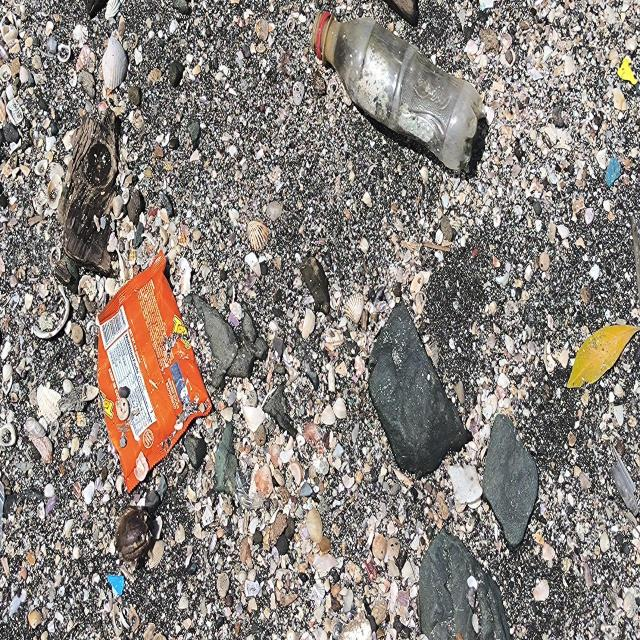plastic_waste: (97, 250, 214, 496), (312, 10, 485, 176)
